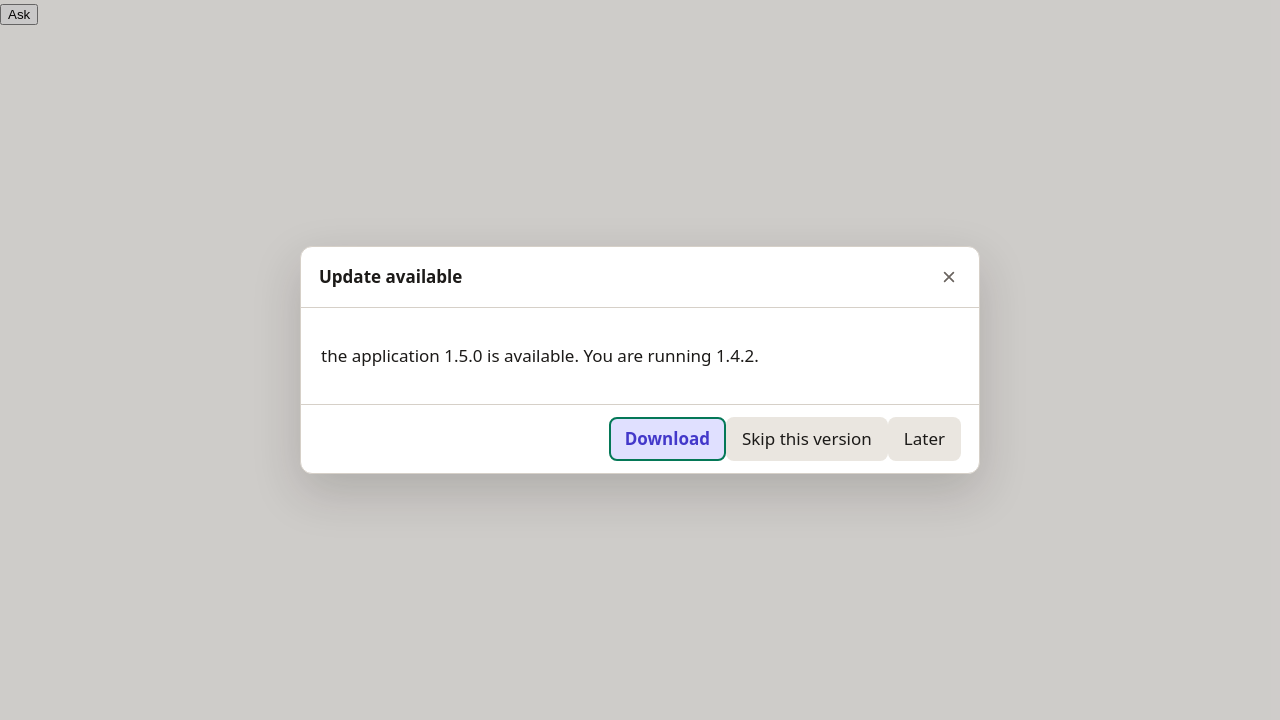
Scenario: the prompt › keeps the dialog open to say why a download could not be handed over
The image size is (1280, 720).
Click the button "Download".
click(667, 439)  # box [609, 417, 726, 461]
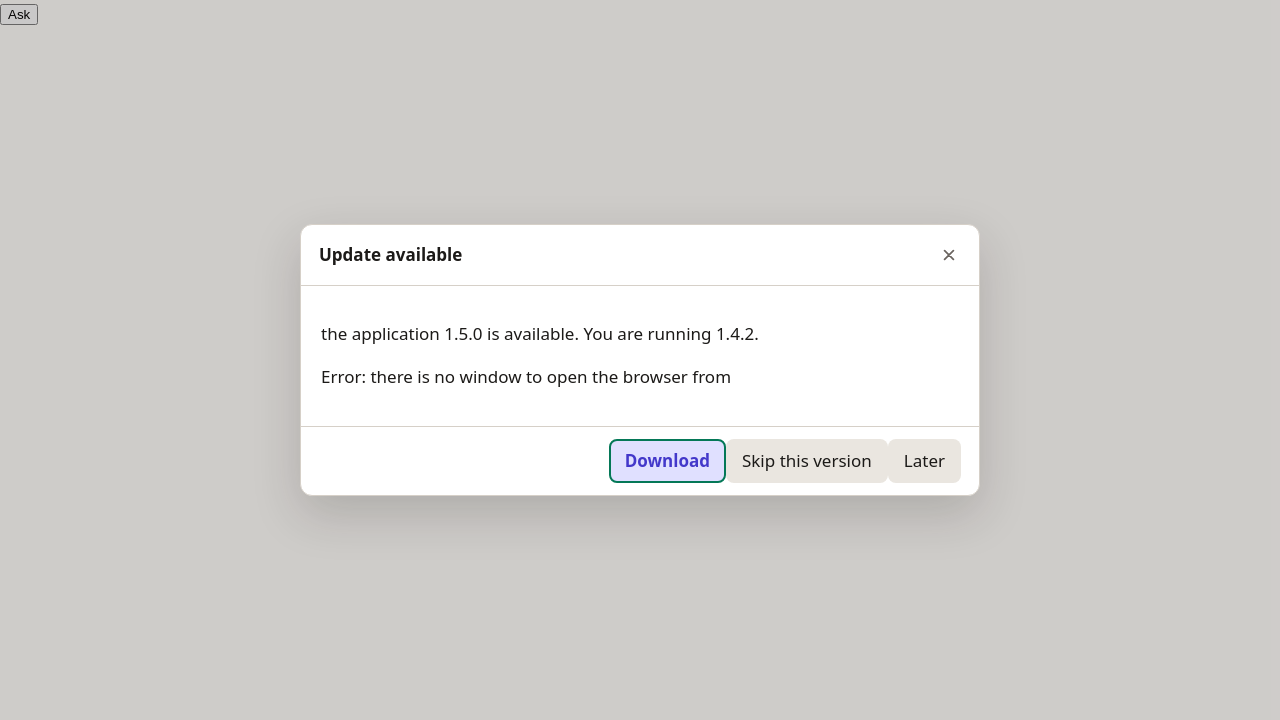
Expected: the dialog is shown, [300, 224, 980, 496]
Expected: the message reads "Error: there is no window to open the browser from", [321, 365, 731, 388]
